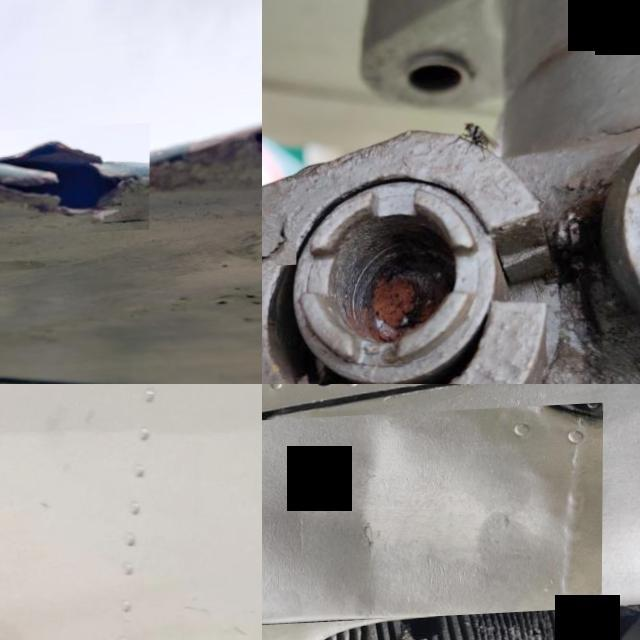Crack: (0, 127, 149, 241), (262, 215, 297, 270)
Dent: (262, 408, 603, 629)
Missing_Fastener: (294, 384, 353, 414)
